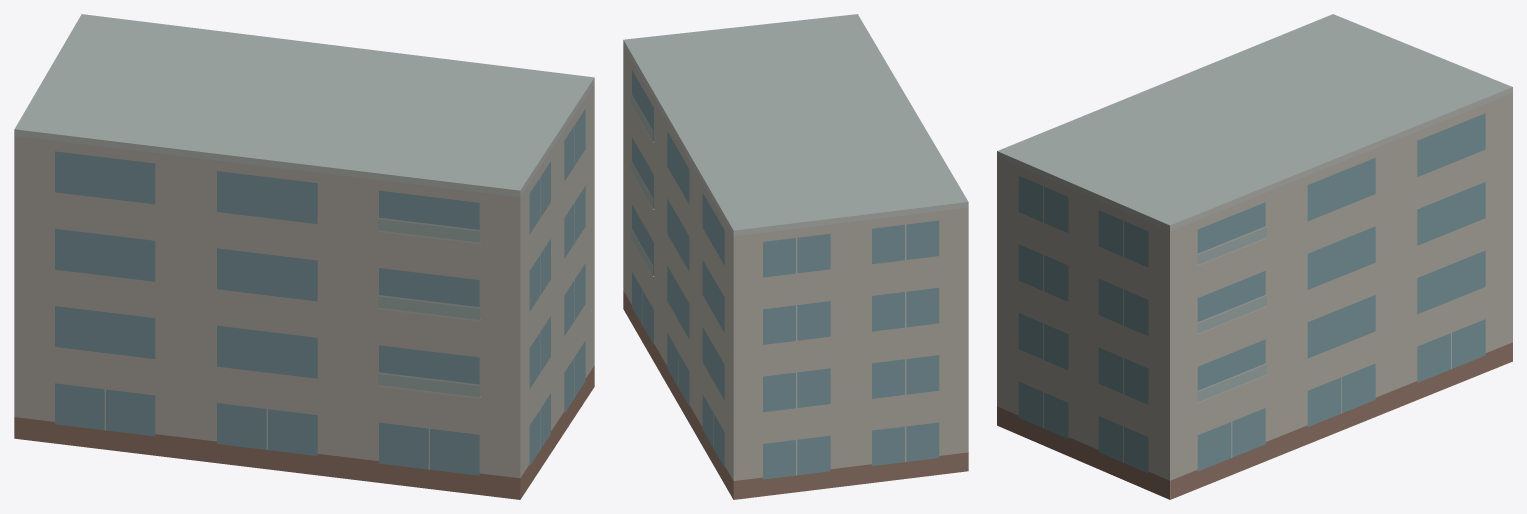
The model's file is survey-upis-32924948.glb.
The picture shows the model from 3 angles, left to right: view 1: azimuth 30°, elevation 25°; view 2: azimuth 150°, elevation 25°; view 3: azimuth 270°, elevation 25°; orthographic projection. The views are drawn at different scales.
Parts seen in each view (by area): view 1: survey-upis-32924948.tmp; view 2: survey-upis-32924948.tmp; view 3: survey-upis-32924948.tmp.
Boxes of the visible parts, bbox=[...] form: survey-upis-32924948.tmp: bbox=[14, 14, 594, 499]; survey-upis-32924948.tmp: bbox=[623, 14, 968, 499]; survey-upis-32924948.tmp: bbox=[997, 14, 1512, 499].
Bounding box in the file's own units: 19.18 × 11.6 × 19.76.
